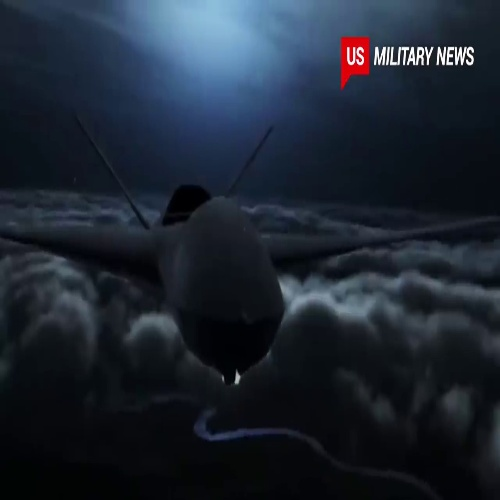uav356: (4, 124, 500, 379)
